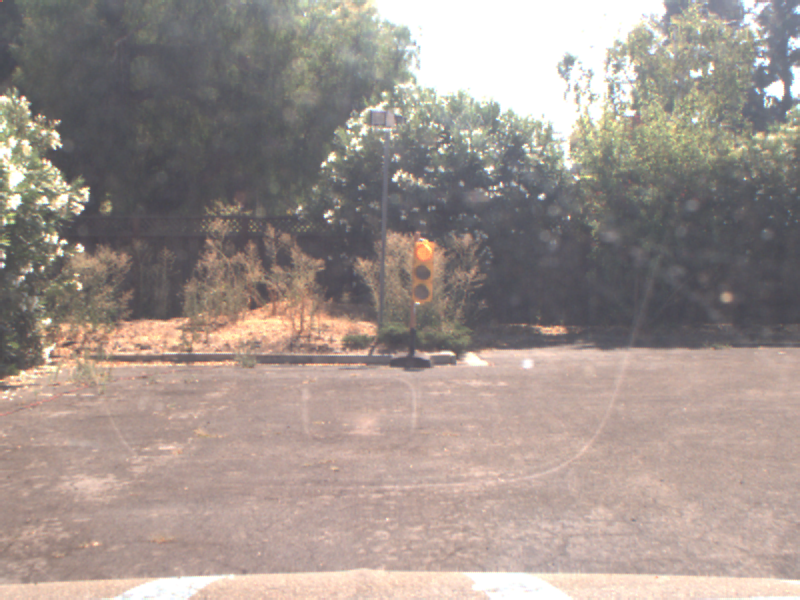red: (411, 236, 434, 306)
